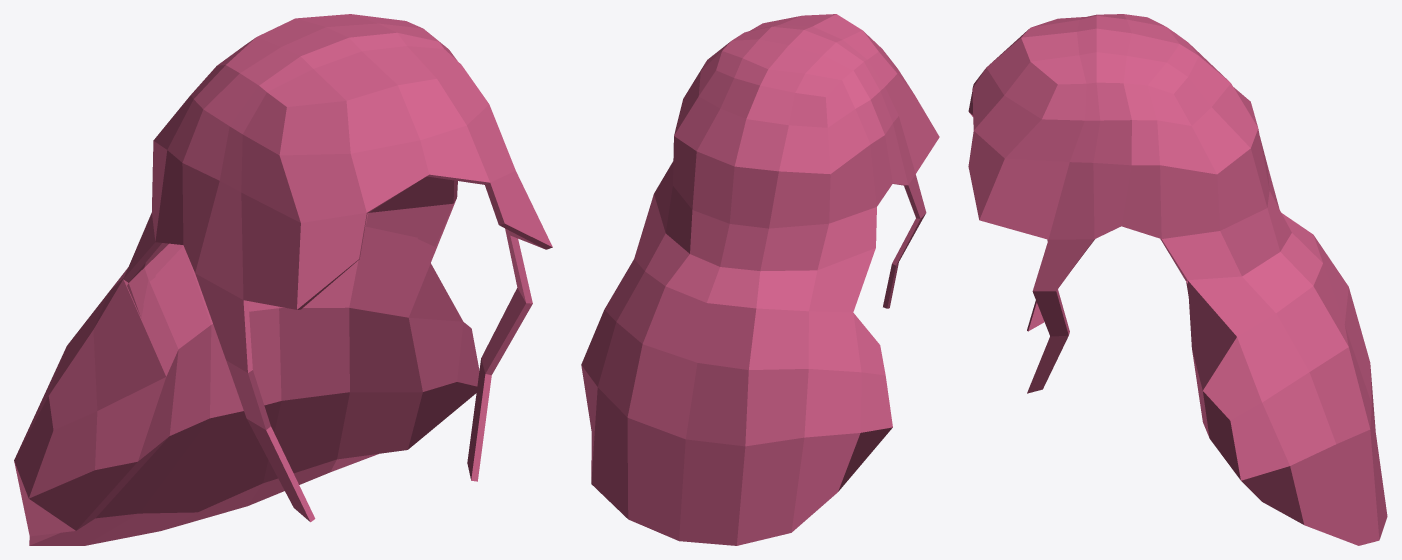
The model's file is layered_wavy_hair.glb.
3 renders of one model, left to right at view 1: azimuth 30°, elevation 25°; view 2: azimuth 150°, elevation 25°; view 3: azimuth 270°, elevation 25°, orthographic. The views are drawn at different scales.
Visible parts, largest first — view 1: Layered Wavy Hair.001; view 2: Layered Wavy Hair.001; view 3: Layered Wavy Hair.001.
Boxes of the visible parts, <box> form: Layered Wavy Hair.001: <box>14,14,552,545</box>; Layered Wavy Hair.001: <box>581,14,939,545</box>; Layered Wavy Hair.001: <box>968,14,1387,545</box>.
Size of the model in its own units: 0.74 by 0.9831 by 0.7649.
